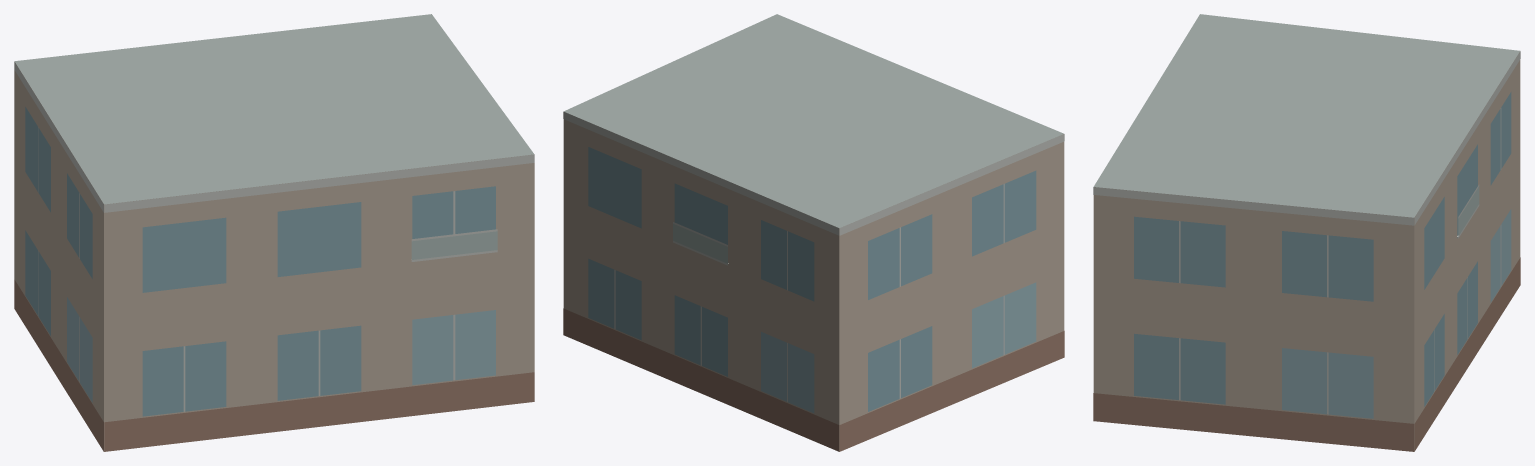
Rendered from survey-upis-32767456.glb.
3 views of the same model, side by side, from view 1: azimuth 30°, elevation 25°; view 2: azimuth 150°, elevation 25°; view 3: azimuth 270°, elevation 25° (orthographic). The views are drawn at different scales.
Visible parts, largest first — view 1: survey-upis-32767456.tmp; view 2: survey-upis-32767456.tmp; view 3: survey-upis-32767456.tmp.
Part boxes in pixels (bbox=[...]): survey-upis-32767456.tmp: bbox=[14, 14, 534, 451]; survey-upis-32767456.tmp: bbox=[563, 14, 1064, 451]; survey-upis-32767456.tmp: bbox=[1093, 14, 1520, 451].
Bounding box in the file's own units: 13.35 × 7.15 × 11.83.
